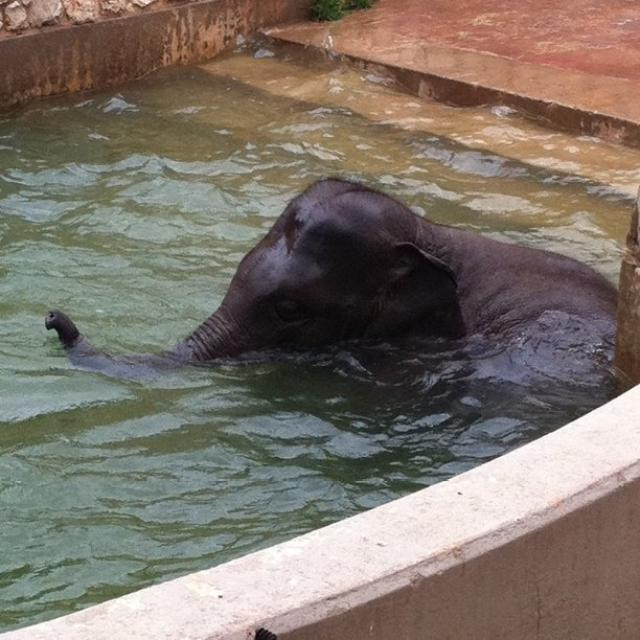Elephant: (43, 175, 620, 437)
